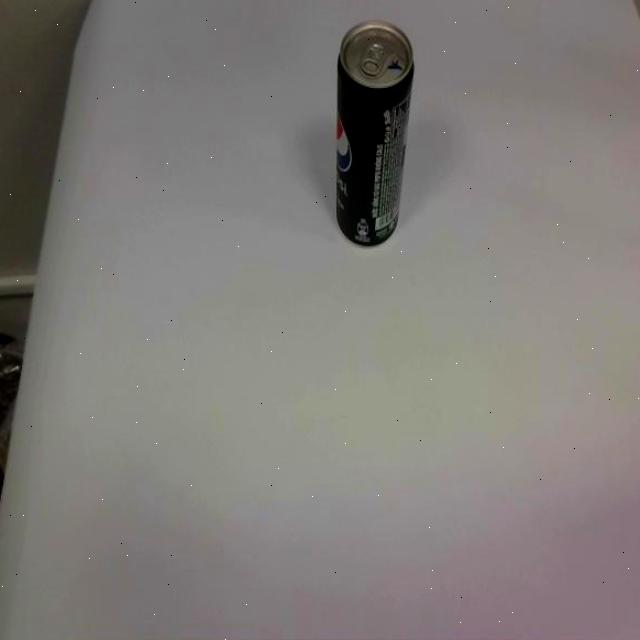debris: (335, 20, 416, 247)
